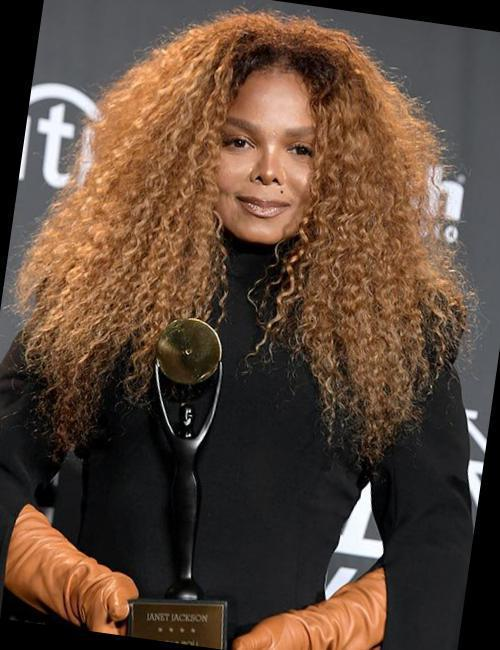Sober: (216, 83, 318, 231)
